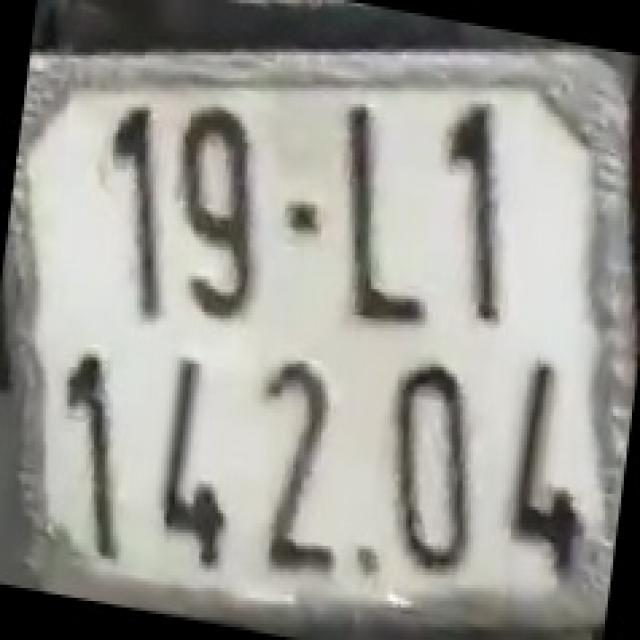0: (390, 357, 473, 575)
1: (444, 101, 508, 325), (105, 100, 169, 322), (60, 351, 126, 565)
2: (258, 354, 342, 578)
4: (505, 361, 589, 578), (156, 351, 234, 572)
9: (175, 100, 258, 322)
L: (336, 101, 430, 325)
